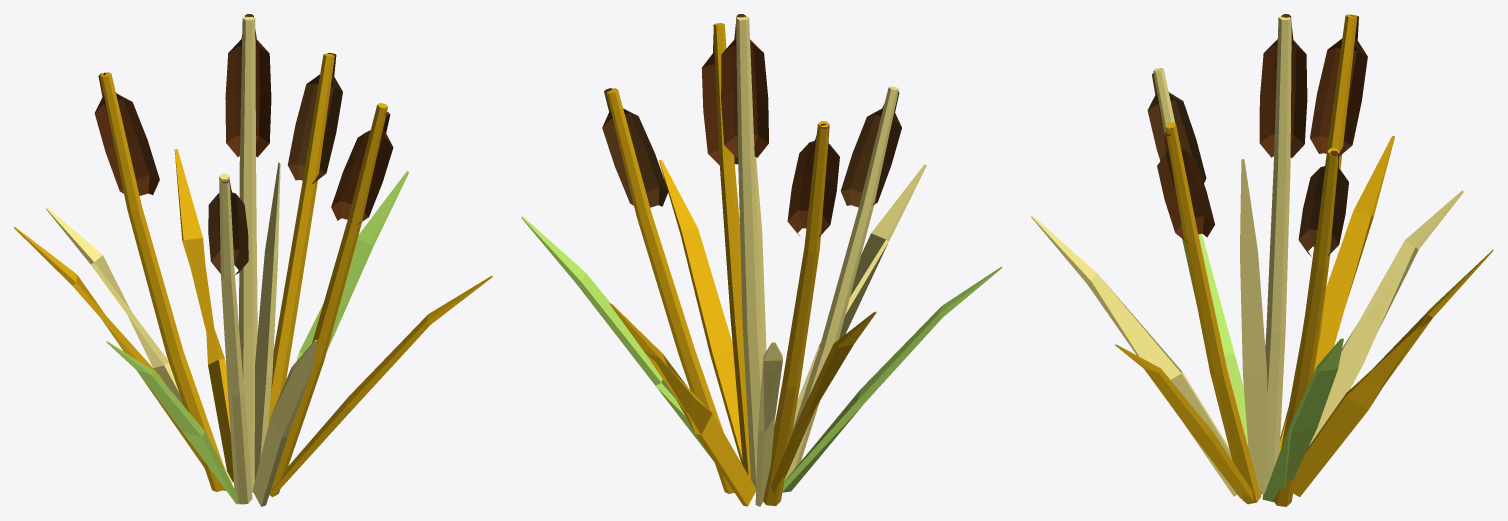
Rendered from fiber_bush.fbx.
The picture shows the model from 3 angles, left to right: view 1: azimuth 30°, elevation 25°; view 2: azimuth 150°, elevation 25°; view 3: azimuth 270°, elevation 25°; orthographic projection. The views are drawn at different scales.
Visible parts, largest first — view 1: Cattail_Center_Stem, Cattail_Left_Stem, Cattail_Right_Stem, Cattail_BackRight_Stem, Cattail_BackLeft_Stem, Leaf_F1, Leaf_Center, Cattail_Center_Head, Leaf_B1, Cattail_Left_Head, Leaf_R2, Cattail_Right_Head (+6 smaller); view 2: Cattail_Center_Stem, Cattail_Left_Stem, Cattail_Right_Stem, Leaf_R2, Cattail_BackRight_Stem, Cattail_BackLeft_Stem, Leaf_F1, Cattail_Center_Head, Leaf_L1, Leaf_R1, Leaf_B1, Cattail_Right_Head (+6 smaller); view 3: Cattail_Center_Stem, Cattail_BackRight_Stem, Leaf_Center, Leaf_F1, Leaf_F2, Cattail_Right_Stem, Leaf_L2, Leaf_B1, Leaf_R1, Cattail_Center_Head, Cattail_Left_Head, Leaf_R2 (+6 smaller).
Boxes of the visible parts, left/top/right/bottom form: Cattail_Center_Stem: left=239, top=16, right=257, bottom=492; Cattail_Left_Stem: left=100, top=72, right=224, bottom=491; Cattail_Right_Stem: left=268, top=53, right=334, bottom=426; Cattail_BackRight_Stem: left=270, top=103, right=387, bottom=496; Cattail_BackLeft_Stem: left=219, top=173, right=252, bottom=504; Leaf_F1: left=174, top=149, right=233, bottom=482; Leaf_Center: left=254, top=162, right=280, bottom=481; Cattail_Center_Head: left=225, top=14, right=271, bottom=157; Leaf_B1: left=252, top=340, right=317, bottom=506; Cattail_Left_Head: left=94, top=72, right=159, bottom=195; Leaf_R2: left=269, top=275, right=492, bottom=497; Cattail_Right_Head: left=287, top=52, right=342, bottom=183; Cattail_Center_Stem: left=736, top=15, right=763, bottom=492; Cattail_Left_Stem: left=763, top=121, right=829, bottom=505; Cattail_Right_Stem: left=606, top=88, right=734, bottom=493; Leaf_R2: left=659, top=159, right=742, bottom=465; Cattail_BackRight_Stem: left=713, top=23, right=750, bottom=479; Cattail_BackLeft_Stem: left=784, top=86, right=898, bottom=480; Leaf_F1: left=609, top=303, right=755, bottom=506; Cattail_Center_Head: left=721, top=14, right=768, bottom=158; Leaf_L1: left=782, top=266, right=1002, bottom=492; Leaf_R1: left=521, top=216, right=734, bottom=493; Leaf_B1: left=793, top=164, right=926, bottom=427; Cattail_Right_Head: left=602, top=88, right=668, bottom=207; Cattail_Center_Stem: left=1261, top=15, right=1291, bottom=494; Cattail_BackRight_Stem: left=1165, top=122, right=1261, bottom=504; Leaf_Center: left=1240, top=159, right=1269, bottom=494; Leaf_F1: left=1293, top=249, right=1493, bottom=496; Leaf_F2: left=1309, top=190, right=1463, bottom=445; Cattail_Right_Stem: left=1273, top=148, right=1339, bottom=506; Leaf_L2: left=1279, top=136, right=1394, bottom=452; Leaf_B1: left=1031, top=215, right=1237, bottom=496; Leaf_R1: left=1262, top=338, right=1343, bottom=502; Cattail_Center_Head: left=1259, top=14, right=1307, bottom=157; Cattail_Left_Head: left=1310, top=15, right=1367, bottom=156; Leaf_R2: left=1115, top=344, right=1253, bottom=500.
Bounding box in the file's own units: 1.52 × 1.78 × 1.53.
